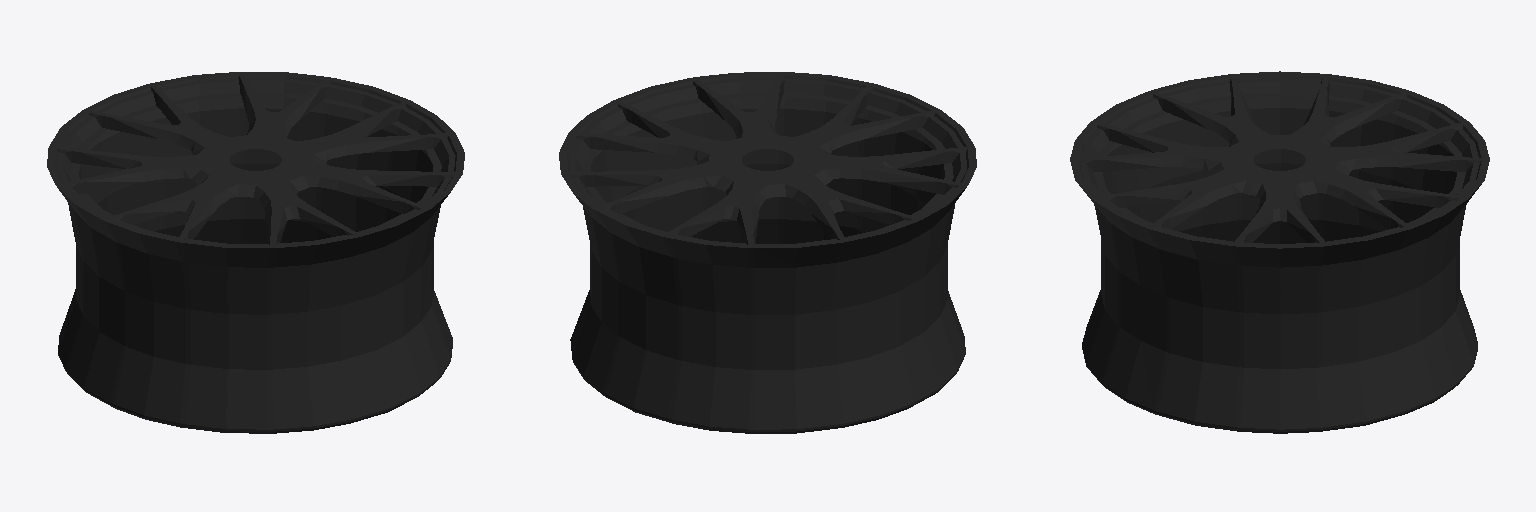
Rendered from wheel_hub_left.obj.
The picture shows the model from 3 angles: view 1: azimuth 30°, elevation 25°; view 2: azimuth 150°, elevation 25°; view 3: azimuth 270°, elevation 25°; orthographic projection.
Parts seen in each view (by area): view 1: sedan_tirehub_left_Circle.002; view 2: sedan_tirehub_left_Circle.002; view 3: sedan_tirehub_left_Circle.002.
Part boxes in pixels (x1,y1,x2,y2): sedan_tirehub_left_Circle.002: (47,72,464,433); sedan_tirehub_left_Circle.002: (559,72,976,433); sedan_tirehub_left_Circle.002: (1070,71,1489,433).
Size of the model in its own units: 0.406 by 0.205 by 0.406.